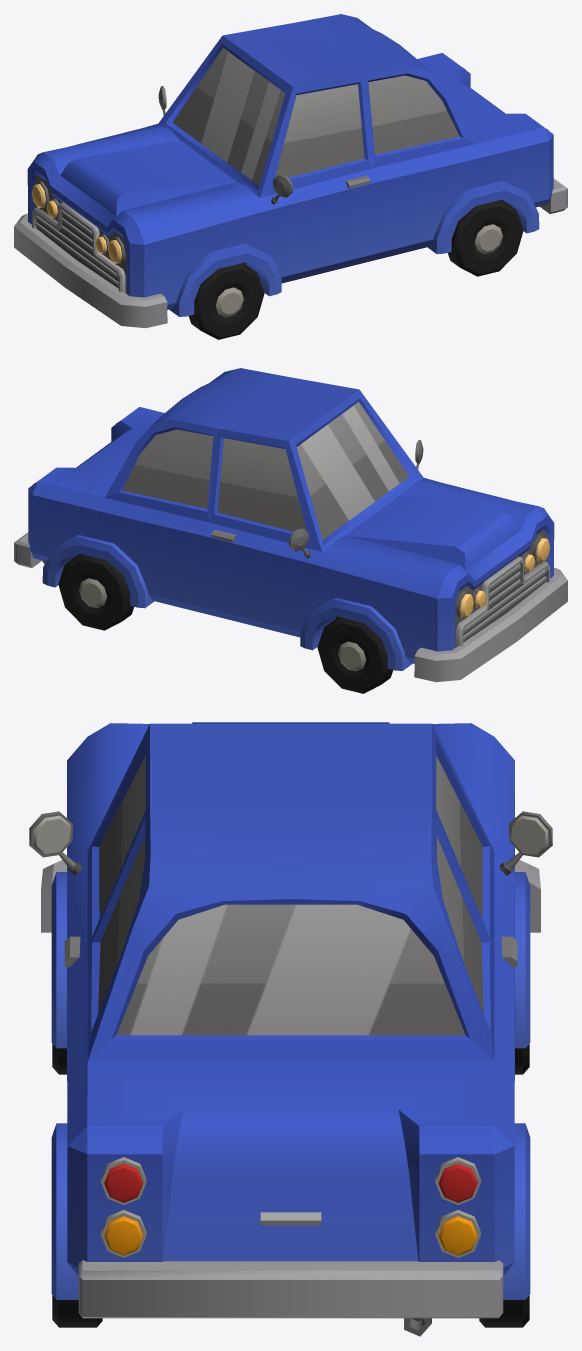
File: Car_7_G.gltf
The picture shows the model from 3 angles, top to bottom: view 1: azimuth 30°, elevation 25°; view 2: azimuth 150°, elevation 25°; view 3: azimuth 270°, elevation 25°; orthographic projection. The views are drawn at different scales.
Parts seen in each view (by area): view 1: Car_7_G, RL, FL; view 2: Car_7_G, RR, FR; view 3: Car_7_G, RL, RR.
Boxes of the visible parts, x1,y1,x2,y2 form: Car_7_G: (14, 14, 567, 328); RL: (448, 200, 523, 276); FL: (188, 263, 264, 339); Car_7_G: (14, 368, 567, 682); RR: (58, 554, 133, 630); FR: (317, 617, 393, 693); Car_7_G: (29, 722, 552, 1336); RL: (52, 1295, 102, 1327); RR: (479, 1295, 529, 1327).
Bounding box in the file's own units: 3.38 × 1.52 × 1.7.
Materials: 3 (3 with a texture image).
